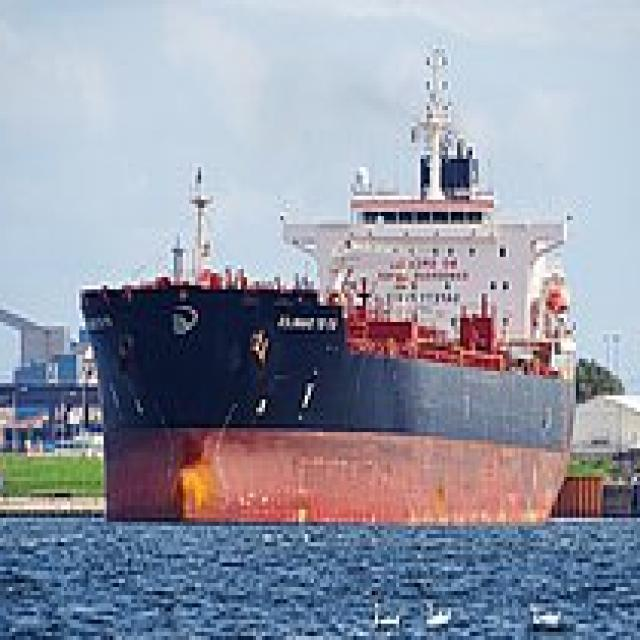Tanker: (76, 37, 582, 530)
